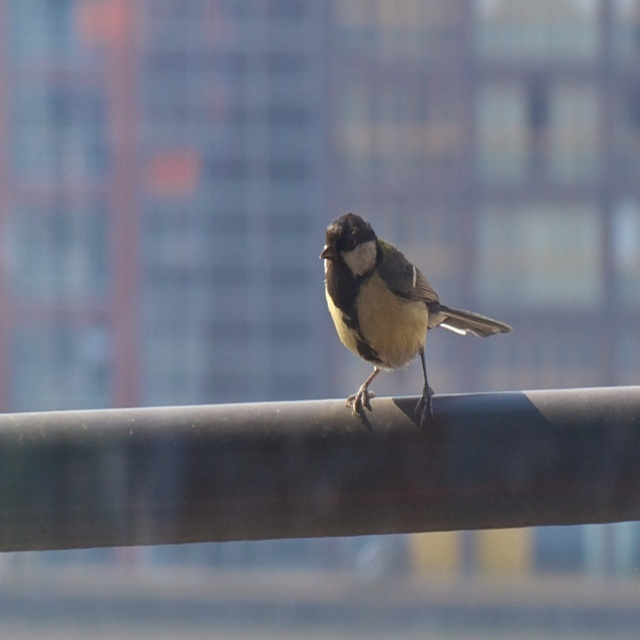Sparrow: (319, 212, 514, 431)
